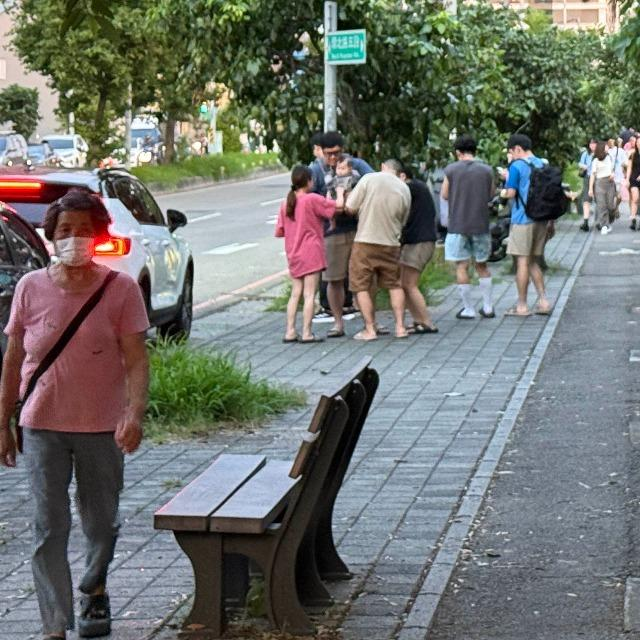NoHelmet: (38, 188, 113, 266)
NoVest: (8, 266, 150, 437)
